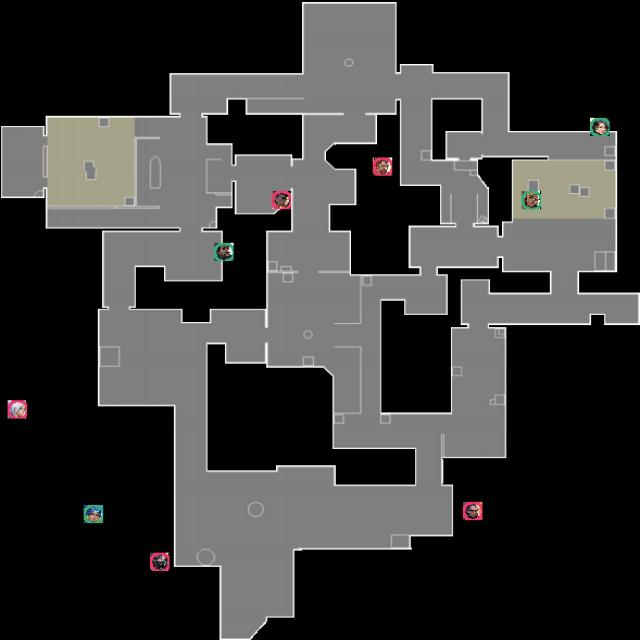atk_breach: (373, 157, 392, 176)
atk_jett: (8, 400, 27, 419)
atk_phoenix: (272, 191, 291, 209)
atk_reyna: (463, 502, 482, 520)
atk_viper: (150, 553, 169, 571)
def_harbor: (214, 243, 234, 261)
def_neon: (84, 505, 103, 523)
def_raze: (522, 191, 541, 209)
def_sage: (590, 118, 610, 136)
